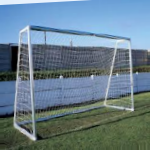goals: (14, 24, 135, 139)
